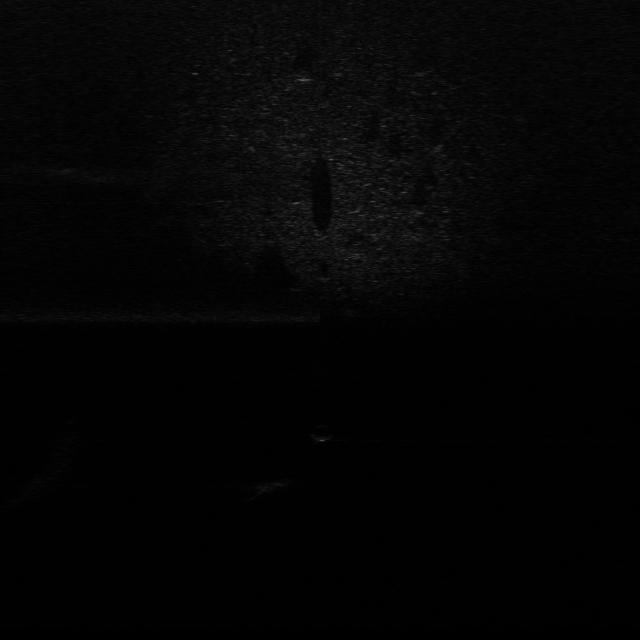ball: (307, 422, 338, 444)
square cage: (237, 477, 296, 503)
